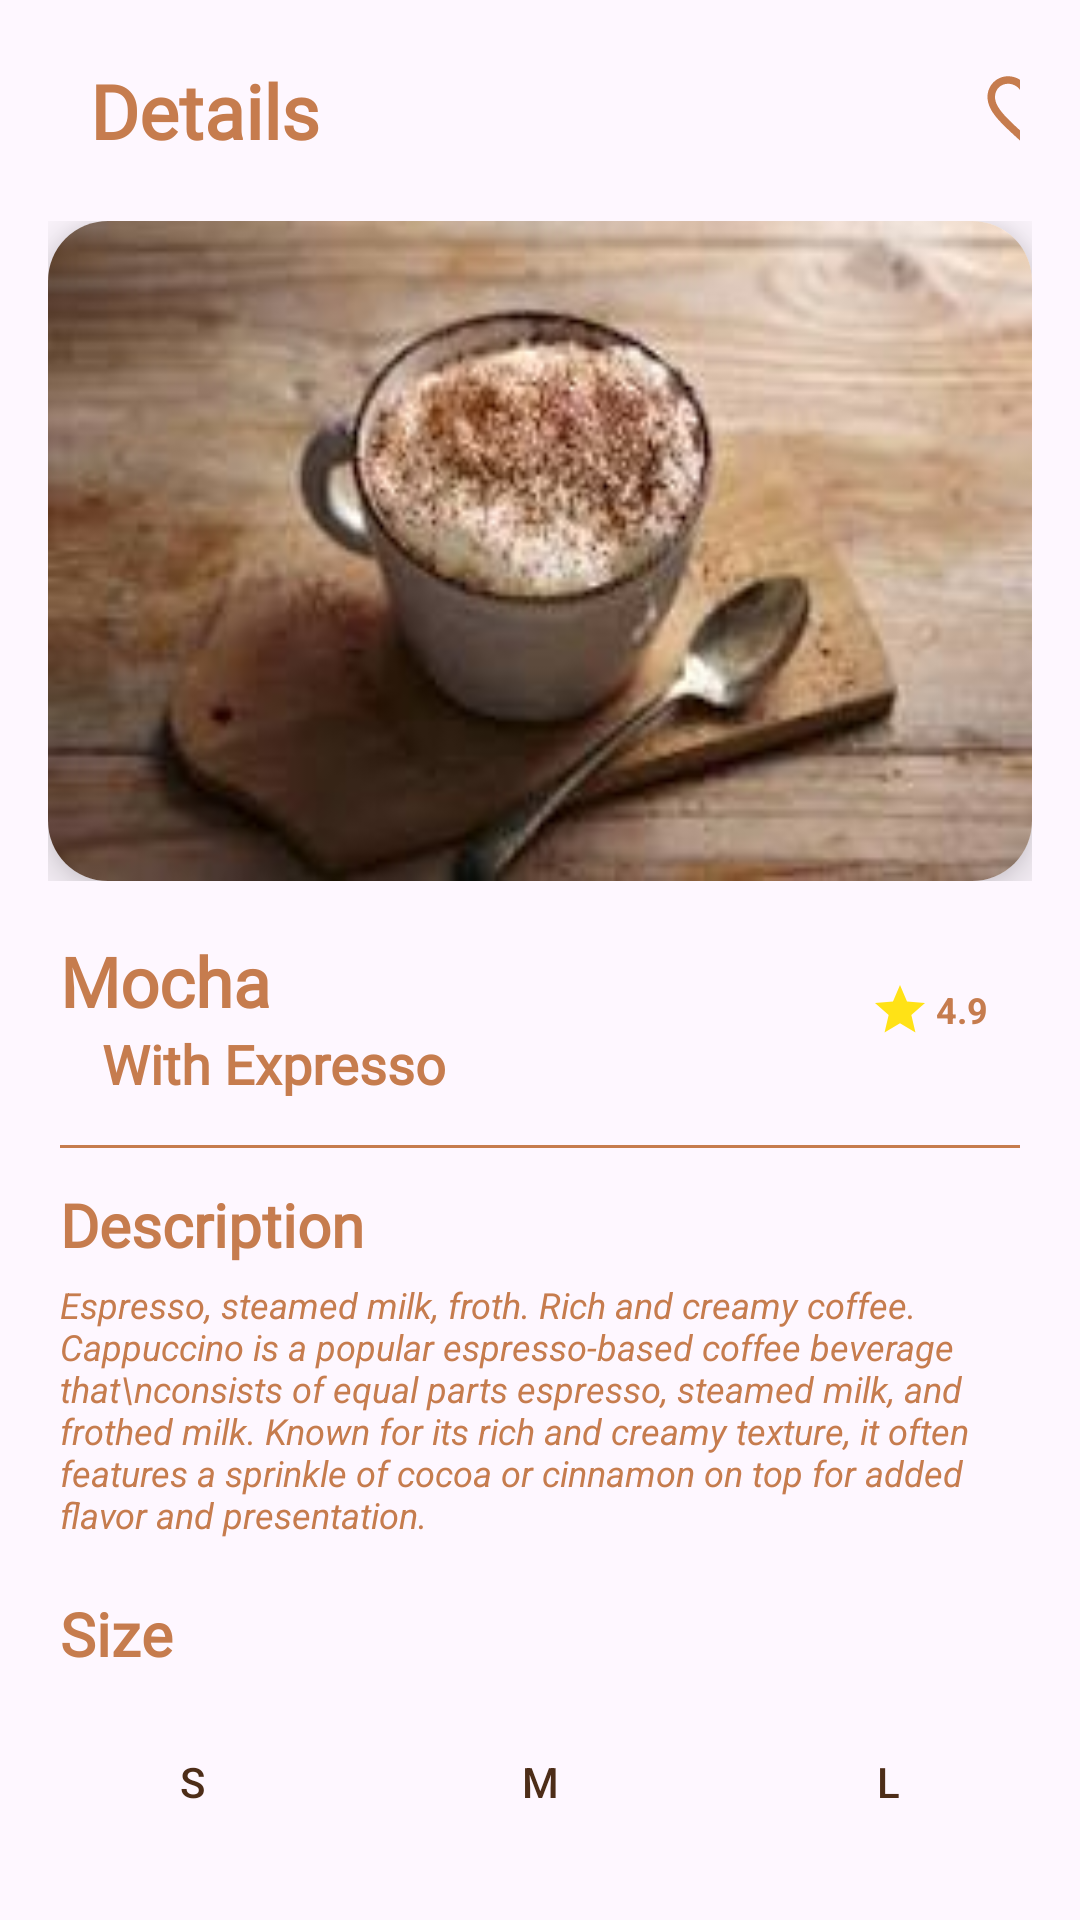

Screen size 1080*1920. Icon name, then its box in pixels as (x1=x1, y1=y1, x2=x2, y2=y2):
star: (x1=875, y1=985, x2=925, y2=1033)
